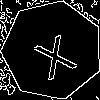X: (27, 25, 79, 81)
